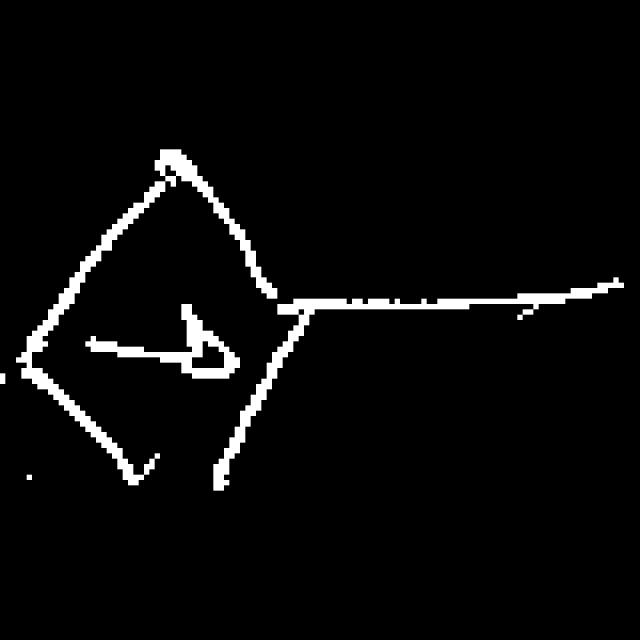dependant_current: (11, 135, 322, 512)
